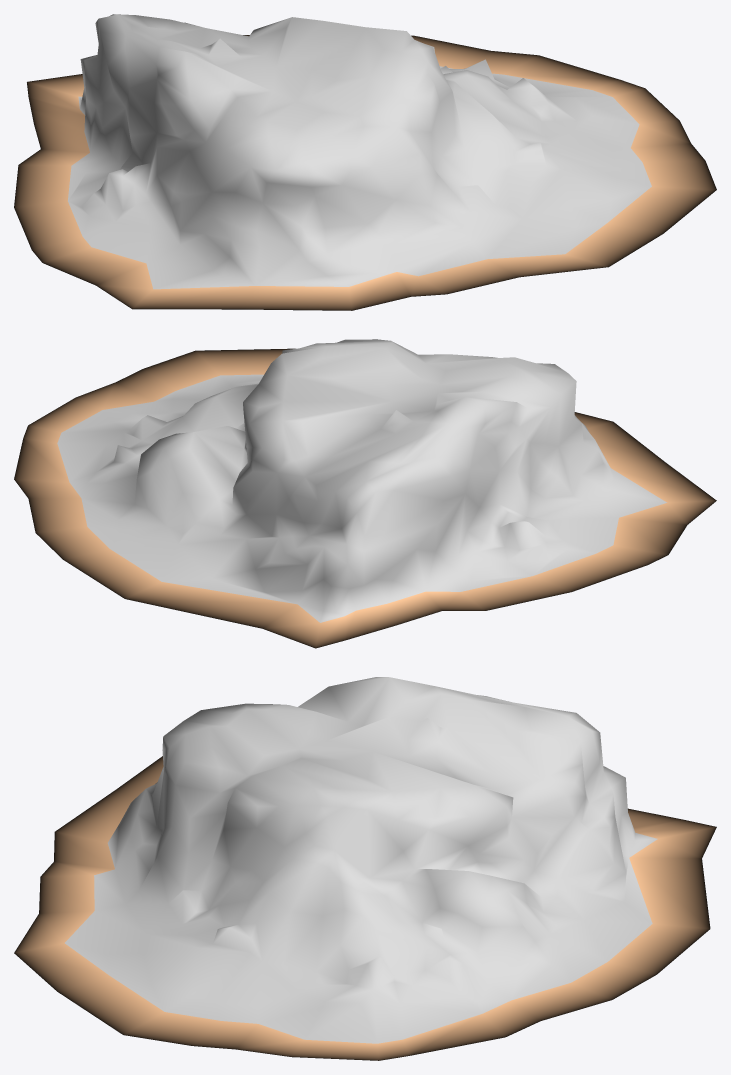
The model's file is mountain_5.FBX.
3 views of the same model, one above another, from view 1: azimuth 30°, elevation 25°; view 2: azimuth 150°, elevation 25°; view 3: azimuth 270°, elevation 25° (orthographic). The views are drawn at different scales.
Parts seen in each view (by area): view 1: mountain_5_L001; view 2: mountain_5_L001; view 3: mountain_5_L001.
Part boxes in pixels (x1,y1,x2,y2): mountain_5_L001: (14, 14, 716, 310); mountain_5_L001: (14, 339, 716, 648); mountain_5_L001: (14, 677, 716, 1060).
Size of the model in its own units: 0.6499 by 0.1418 by 0.5981.
